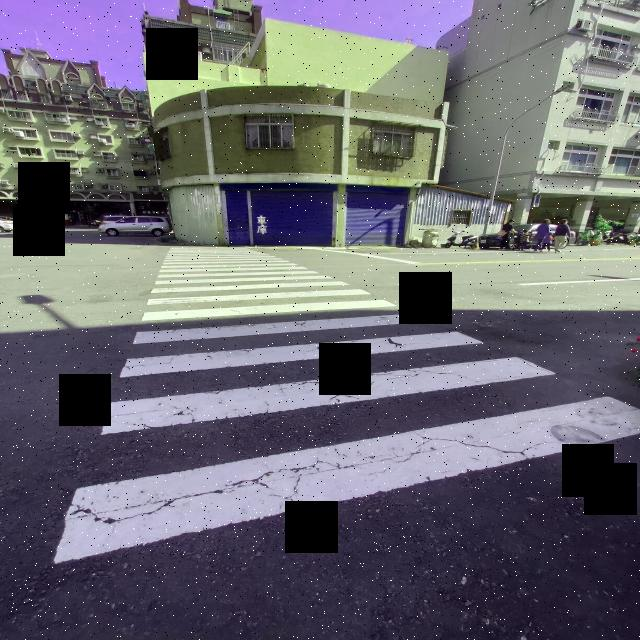person: (533, 219, 550, 251), (555, 219, 570, 252), (500, 219, 513, 250)
zebra crossing: (48, 248, 640, 563)
